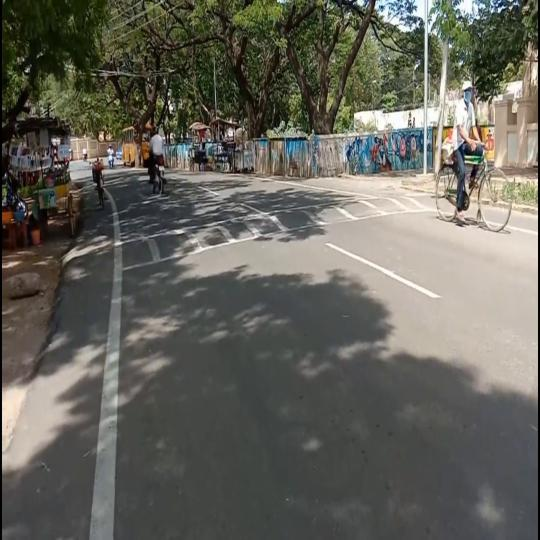Speed Bump: (59, 188, 440, 270)
